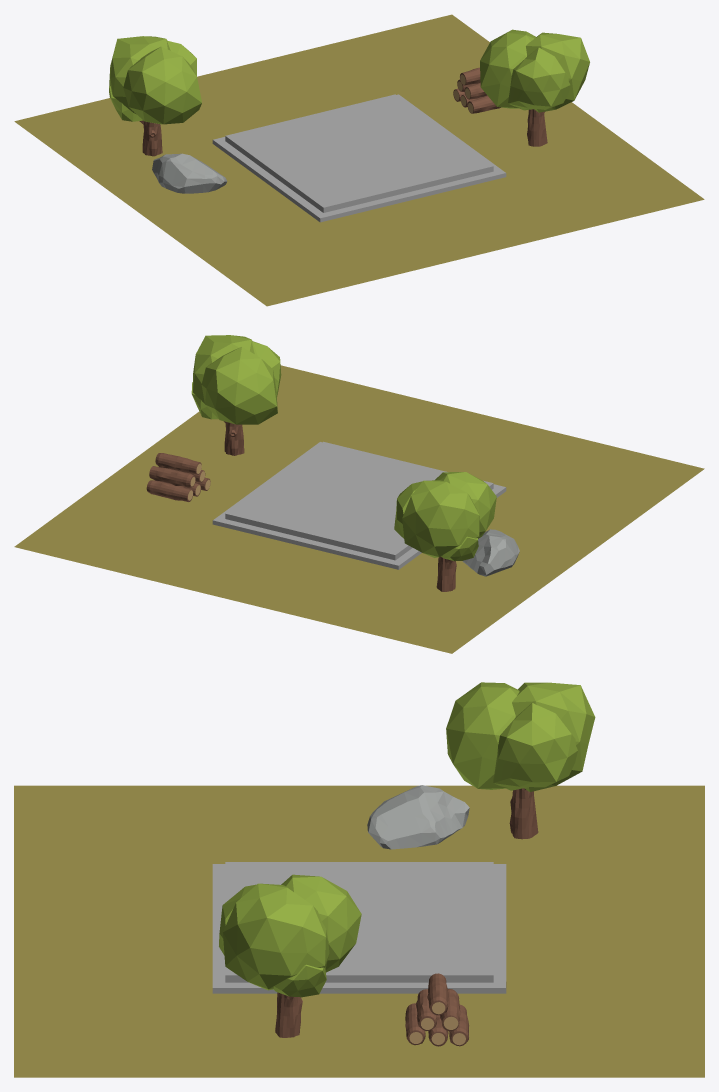
Rendered from island.dae.
3 renders of one model, top to bottom at view 1: azimuth 30°, elevation 25°; view 2: azimuth 150°, elevation 25°; view 3: azimuth 270°, elevation 25°, orthographic. The views are drawn at different scales.
Parts seen in each view (by area): view 1: Plane, Arena_Arena_material, Icosphere_001, Icosphere, Stone01_LOW, Cylinder_001, Cylinder; view 2: Plane, Arena_Arena_material, Icosphere, Icosphere_001, Stone01_LOW, Wood_003_Cylinder_008, Wood_005_Cylinder_010, Wood_002_Cylinder_007, Cylinder_001, Cylinder; view 3: Plane, Arena_Arena_material, Icosphere, Icosphere_001, Stone01_LOW, Cylinder, Cylinder_001, Wood_005_Cylinder_010.
Part boxes in pixels (x1,y1,x2,y2): Plane: (14, 14, 704, 306); Arena_Arena_material: (212, 94, 506, 222); Icosphere_001: (480, 29, 589, 112); Icosphere: (109, 36, 201, 124); Stone01_LOW: (152, 153, 227, 193); Cylinder_001: (527, 109, 547, 146); Cylinder: (139, 120, 162, 156); Plane: (14, 365, 704, 653); Arena_Arena_material: (212, 441, 506, 569); Icosphere: (394, 472, 496, 561); Icosphere_001: (191, 335, 281, 424); Stone01_LOW: (462, 529, 519, 576); Wood_003_Cylinder_008: (149, 466, 195, 487); Wood_005_Cylinder_010: (155, 453, 201, 474); Wood_002_Cylinder_007: (146, 480, 193, 501); Cylinder_001: (224, 421, 244, 455); Cylinder: (436, 556, 456, 591); Plane: (14, 785, 704, 1077); Arena_Arena_material: (212, 862, 506, 993); Icosphere: (446, 682, 595, 791); Icosphere_001: (219, 874, 361, 997); Stone01_LOW: (367, 785, 469, 849); Cylinder: (509, 788, 538, 839); Cylinder_001: (275, 992, 302, 1037); Wood_005_Cylinder_010: (427, 973, 448, 1015).
Bounding box in the file's own units: 47.41 × 47.41 × 13.44.
